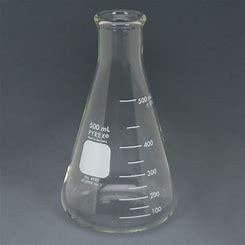Titrarion: (54, 8, 187, 241)
